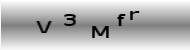3: (62, 13, 77, 26)
M: (91, 24, 109, 38)
V: (35, 20, 52, 33)
f: (116, 12, 126, 26)
r: (128, 10, 140, 21)
